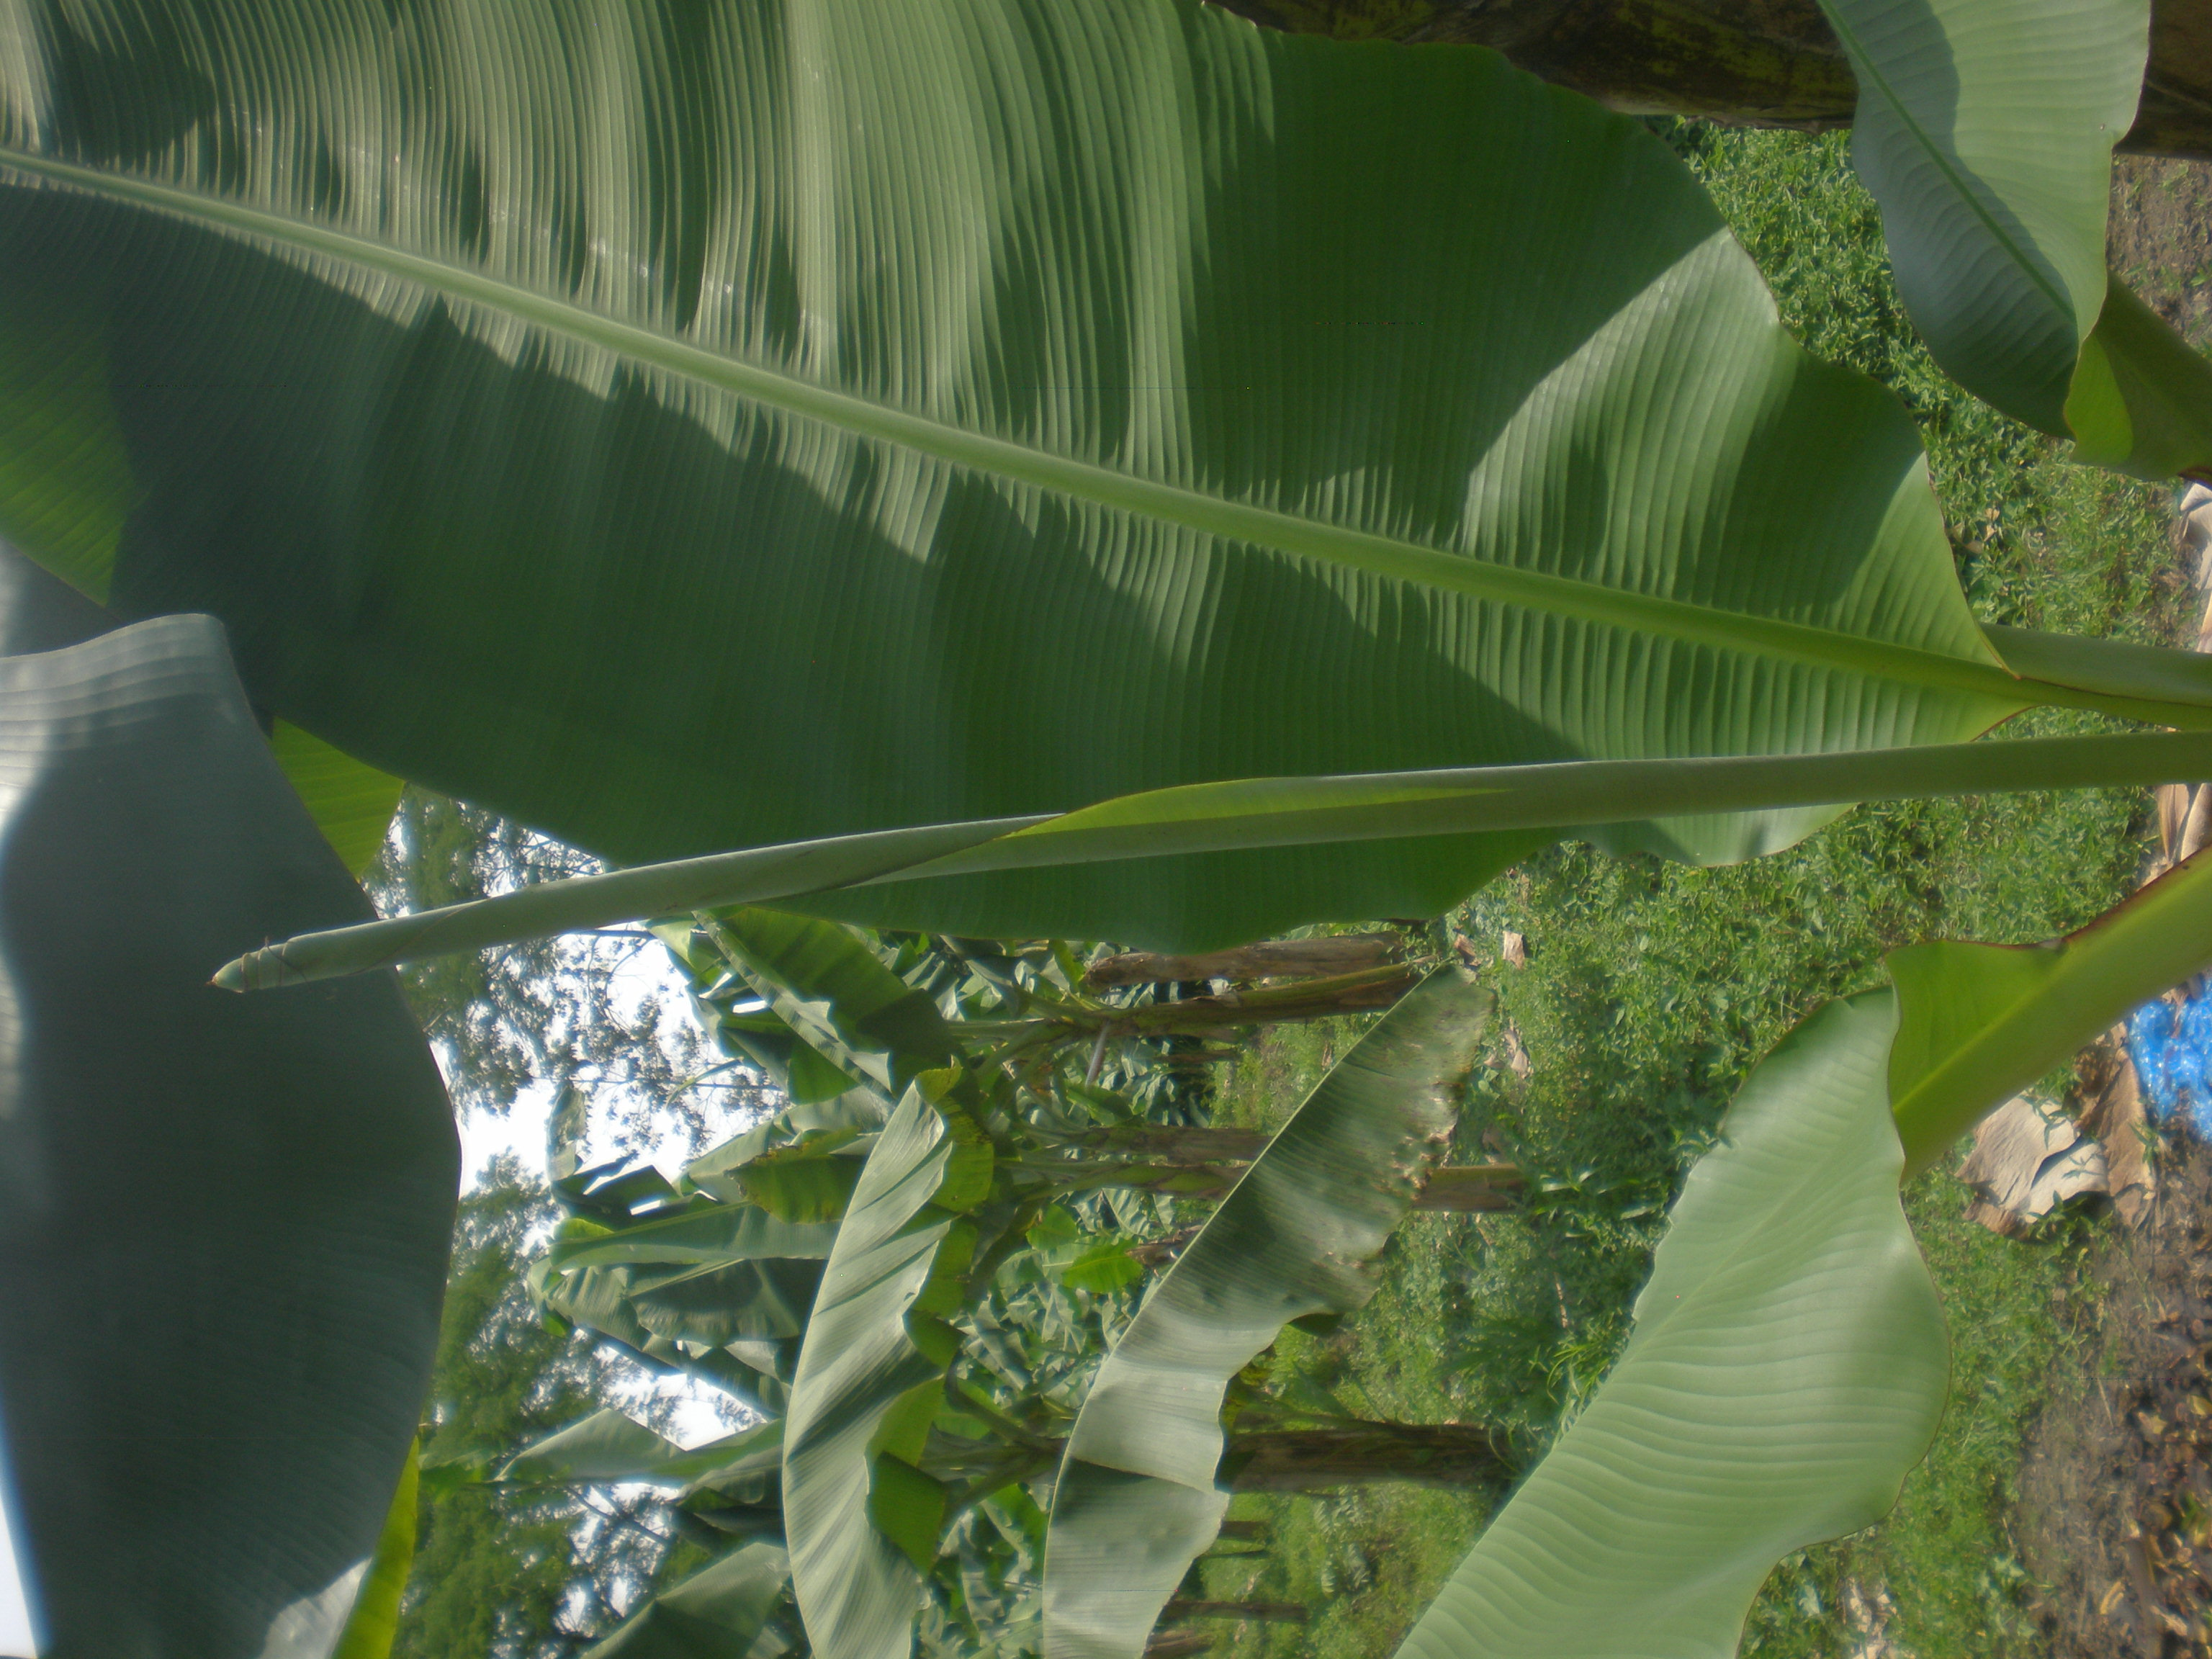candleleafs: (207, 728, 2156, 1002)
